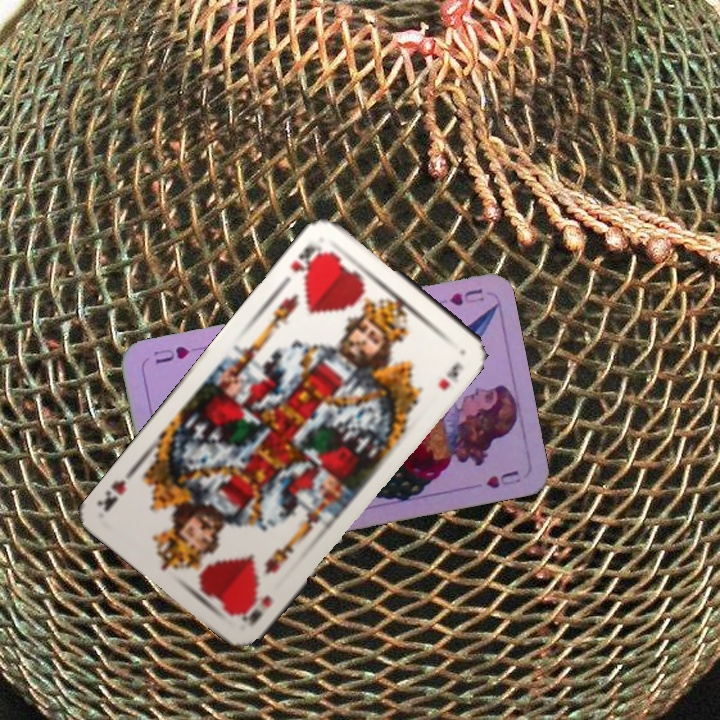HK: (286, 241, 328, 281), (238, 591, 275, 629)
HU: (429, 284, 487, 309)
